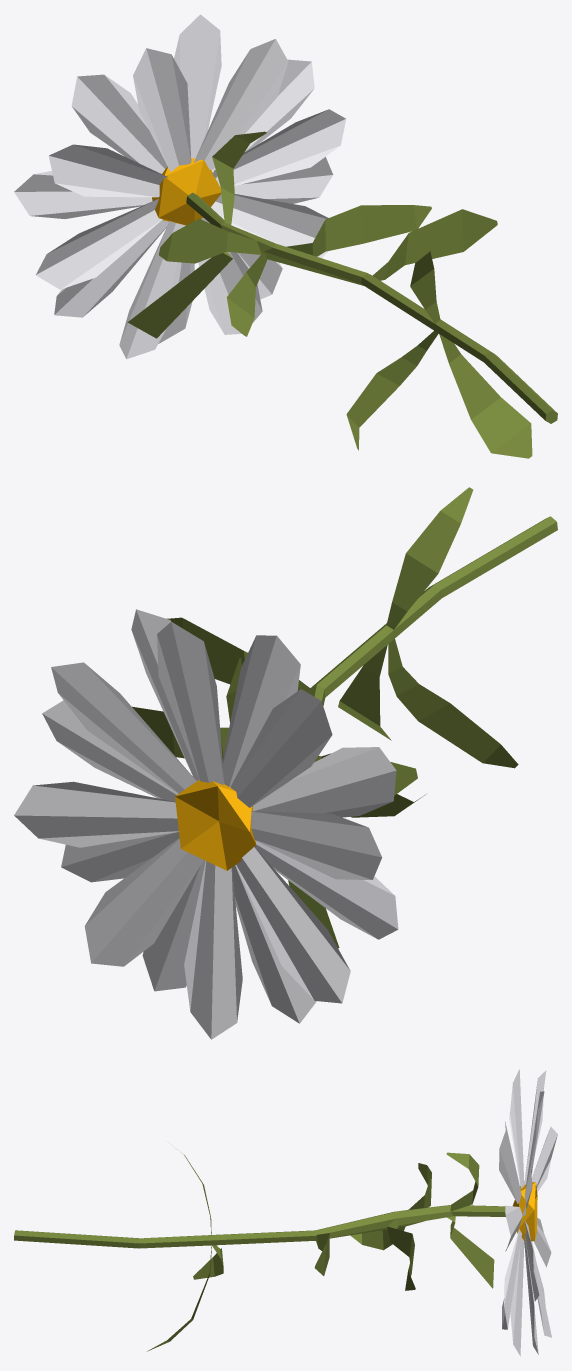
The model's file is new-flower.glb.
3 views of the same model, one above another, from view 1: azimuth 30°, elevation 25°; view 2: azimuth 150°, elevation 25°; view 3: azimuth 270°, elevation 25° (orthographic). The views are drawn at different scales.
Parts seen in each view (by area): view 1: margarita flower, petal.016, petal.014, petal.013, petal.010, petal.002, petal.012, petal.015, petal.004, petal.011, petal.009, petal.008 (+5 smaller); view 2: margarita flower, petal.003, petal.005, petal.009, petal.007, petal.015, petal.001, petal.012, petal.013, petal.011, petal.014, petal.010 (+5 smaller); view 3: margarita flower, petal.014, petal.006, petal.016, petal.004, petal.011, petal.013, petal.005, petal.007, petal.015, petal.003, petal.002 (+1 smaller).
Boxes of the visible parts, left/top/right/bottom form: margarita flower: left=127, top=131, right=557, bottom=458; petal.016: left=194, top=39, right=288, bottom=169; petal.014: left=133, top=48, right=191, bottom=171; petal.013: left=71, top=74, right=167, bottom=173; petal.010: left=36, top=199, right=162, bottom=289; petal.002: left=212, top=109, right=345, bottom=187; petal.012: left=48, top=144, right=167, bottom=197; petal.015: left=174, top=14, right=221, bottom=158; petal.004: left=211, top=194, right=328, bottom=258; petal.011: left=14, top=171, right=152, bottom=218; petal.009: left=54, top=220, right=168, bottom=317; petal.008: left=119, top=221, right=185, bottom=359; margarita flower: left=132, top=487, right=557, bottom=948; petal.003: left=14, top=781, right=178, bottom=847; petal.005: left=84, top=838, right=203, bottom=966; petal.009: left=235, top=846, right=350, bottom=1003; petal.007: left=184, top=861, right=242, bottom=1039; petal.015: left=157, top=621, right=224, bottom=784; petal.001: left=51, top=662, right=197, bottom=793; petal.012: left=253, top=747, right=396, bottom=817; petal.013: left=231, top=689, right=332, bottom=807; petal.011: left=251, top=811, right=382, bottom=879; petal.014: left=222, top=635, right=300, bottom=787; petal.010: left=255, top=841, right=398, bottom=939; margarita flower: left=14, top=1149, right=537, bottom=1351; petal.014: left=510, top=1069, right=524, bottom=1188; petal.006: left=510, top=1237, right=524, bottom=1356; petal.016: left=499, top=1121, right=521, bottom=1203; petal.004: left=502, top=1229, right=521, bottom=1329; petal.011: left=532, top=1126, right=557, bottom=1191; petal.013: left=524, top=1070, right=546, bottom=1184; petal.005: left=524, top=1237, right=538, bottom=1354; petal.007: left=531, top=1241, right=551, bottom=1337; petal.015: left=525, top=1091, right=544, bottom=1194; petal.003: left=524, top=1219, right=539, bottom=1301; petal.002: left=505, top=1205, right=522, bottom=1251.
Bounding box in the file's own units: 1.02 × 0.9527 × 1.8.
